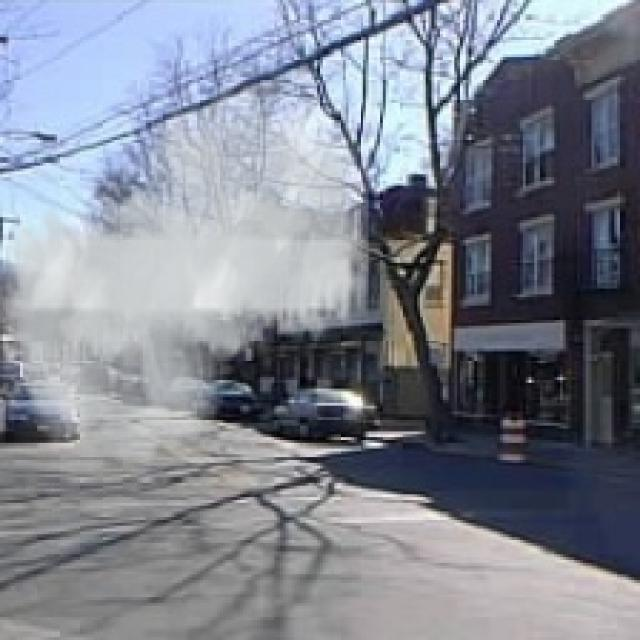smoke: (0, 69, 369, 480)
